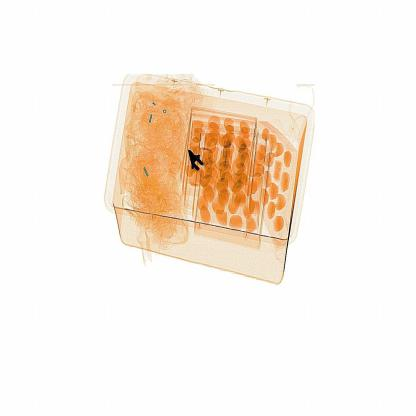gun: (178, 146, 218, 194)
